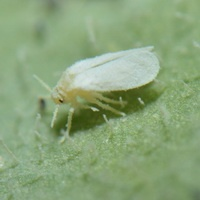insect: (51, 46, 159, 115)
